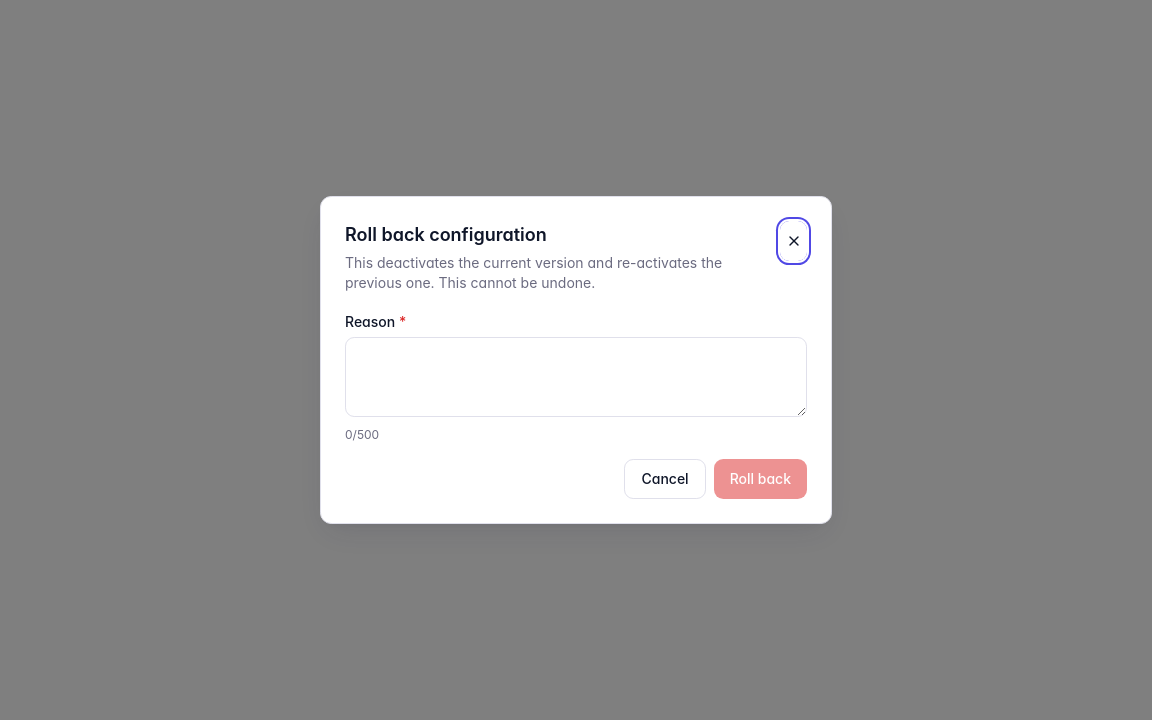
RollbackConfirmDialog › notes when there was no prior version to restore
Type "first version" into the text box labelled "Reason *".
click(576, 377); type("first version")  # box [345,337,807,417]
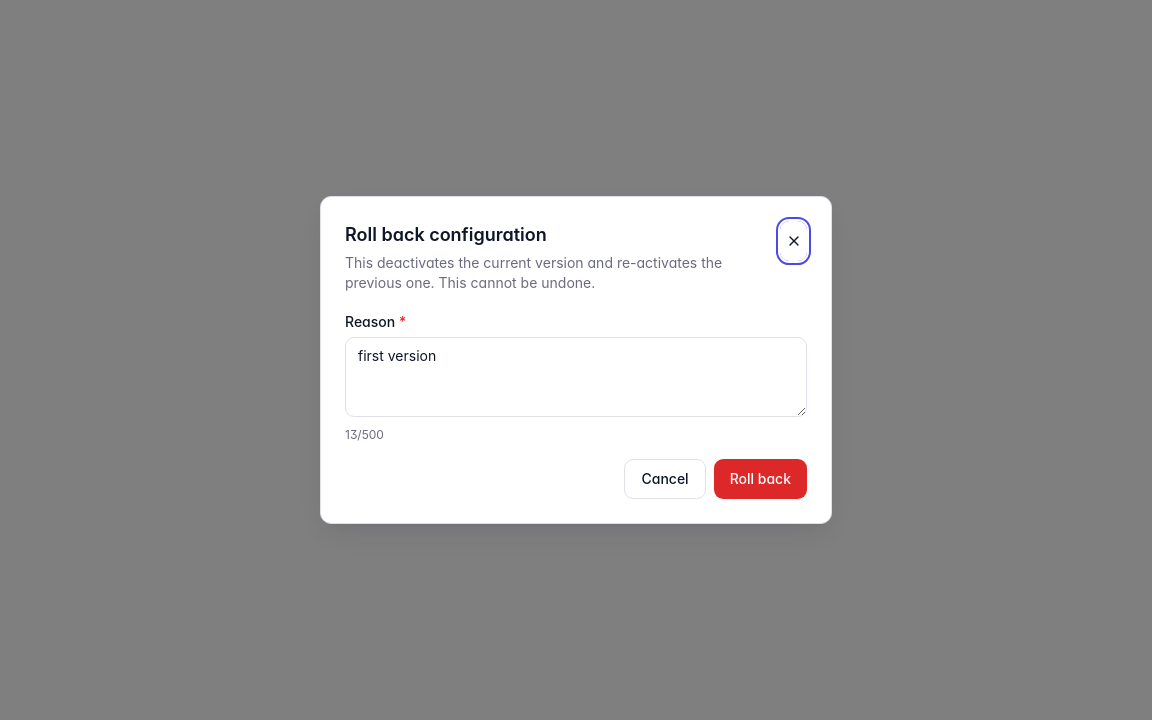
Click the button "Roll back".
click(760, 479)  # box [714,459,807,499]
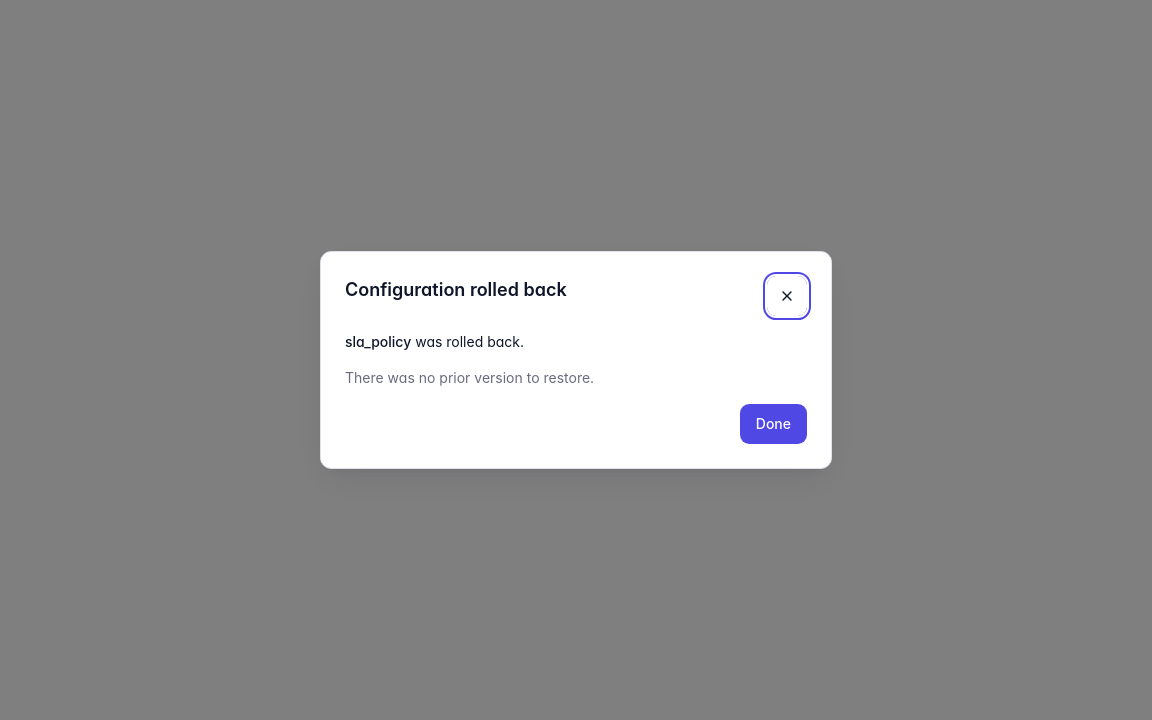
Expected: the text "There was no prior version to restore." is shown, [345,369,594,386]
